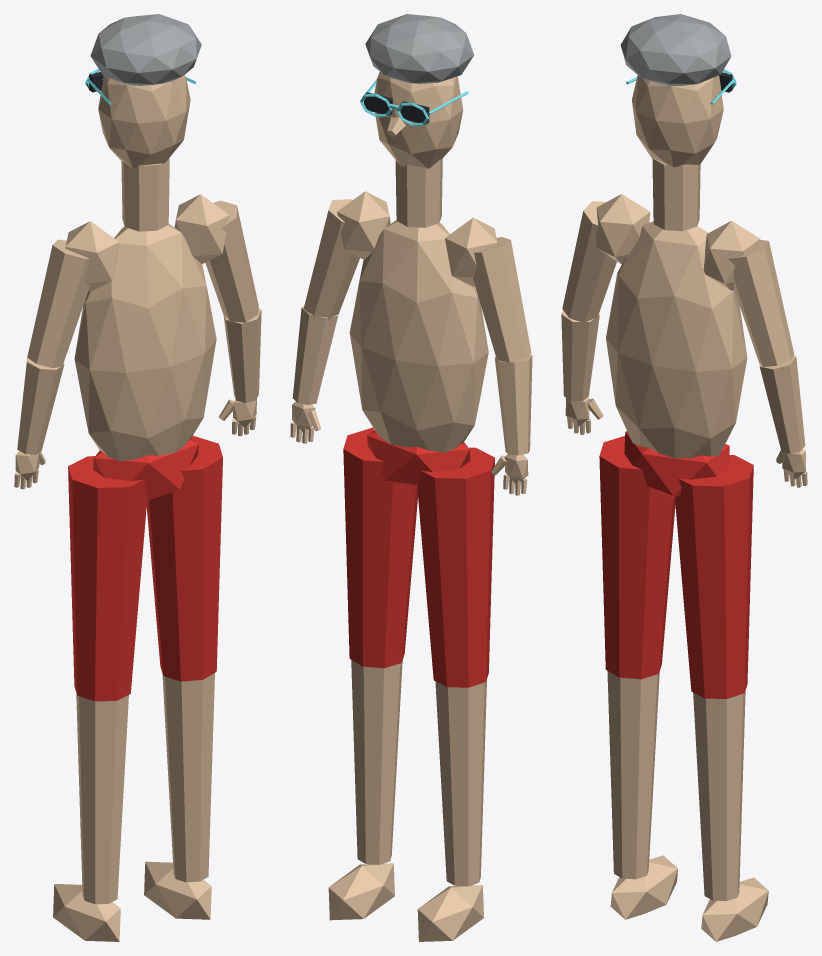
Rendered from OutfitBadman.fbx.
The picture shows the model from 3 angles, left to right: view 1: azimuth 30°, elevation 25°; view 2: azimuth 150°, elevation 25°; view 3: azimuth 330°, elevation 25°; orthographic projection. The views are drawn at different scales.
Visible parts, largest first — view 1: Torso, ThighLeft, ThighRight, CalfLeft, CalfRight, Face, HatCrown, UpperArmSkinLeft, UpperArmSkinRight, Neck, Waist, ForearmSkinLeft (+6 smaller); view 2: Torso, ThighLeft, ThighRight, CalfLeft, CalfRight, HatCrown, Face, UpperArmSkinLeft, UpperArmSkinRight, ForearmSkinLeft, FootRight, FootLeft (+6 smaller); view 3: Torso, ThighRight, ThighLeft, CalfRight, CalfLeft, Face, HatCrown, UpperArmSkinRight, UpperArmSkinLeft, Neck, Waist, ForearmSkinRight (+7 smaller).
Boxes of the visible parts, left/top/right/bottom form: Torso: left=74, top=223, right=216, bottom=461; ThighLeft: left=68, top=456, right=147, bottom=701; ThighRight: left=146, top=435, right=222, bottom=681; CalfLeft: left=76, top=693, right=128, bottom=904; CalfRight: left=162, top=673, right=214, bottom=882; Face: left=98, top=74, right=190, bottom=169; HatCrown: left=90, top=14, right=201, bottom=85; UpperArmSkinLeft: left=27, top=239, right=89, bottom=367; UpperArmSkinRight: left=205, top=200, right=258, bottom=323; Neck: left=121, top=158, right=169, bottom=231; Waist: left=93, top=438, right=198, bottom=500; ForearmSkinLeft: left=17, top=354, right=64, bottom=454; Torso: left=349, top=220, right=488, bottom=452; ThighLeft: left=417, top=447, right=494, bottom=687; ThighRight: left=343, top=427, right=417, bottom=668; CalfLeft: left=435, top=679, right=486, bottom=886; CalfRight: left=351, top=660, right=402, bottom=864; HatCrown: left=365, top=14, right=473, bottom=83; Face: left=374, top=72, right=463, bottom=168; UpperArmSkinLeft: left=473, top=237, right=531, bottom=362; UpperArmSkinRight: left=303, top=199, right=359, bottom=320; ForearmSkinLeft: left=494, top=354, right=532, bottom=455; FootRight: left=328, top=863, right=394, bottom=920; FootLeft: left=417, top=885, right=483, bottom=941; Torso: left=606, top=221, right=747, bottom=458; ThighRight: left=674, top=454, right=753, bottom=698; ThighLeft: left=599, top=436, right=675, bottom=679; CalfRight: left=693, top=690, right=745, bottom=901; CalfLeft: left=607, top=670, right=659, bottom=879; Face: left=632, top=75, right=723, bottom=167; HatCrown: left=620, top=14, right=731, bottom=85; UpperArmSkinRight: left=728, top=240, right=793, bottom=367; UpperArmSkinLeft: left=562, top=201, right=616, bottom=322; Neck: left=652, top=158, right=700, bottom=231; Waist: left=624, top=431, right=729, bottom=498; ForearmSkinRight: left=759, top=355, right=805, bottom=453.
Bounding box in the file's own units: 0.4812 × 1.75 × 0.2275.
